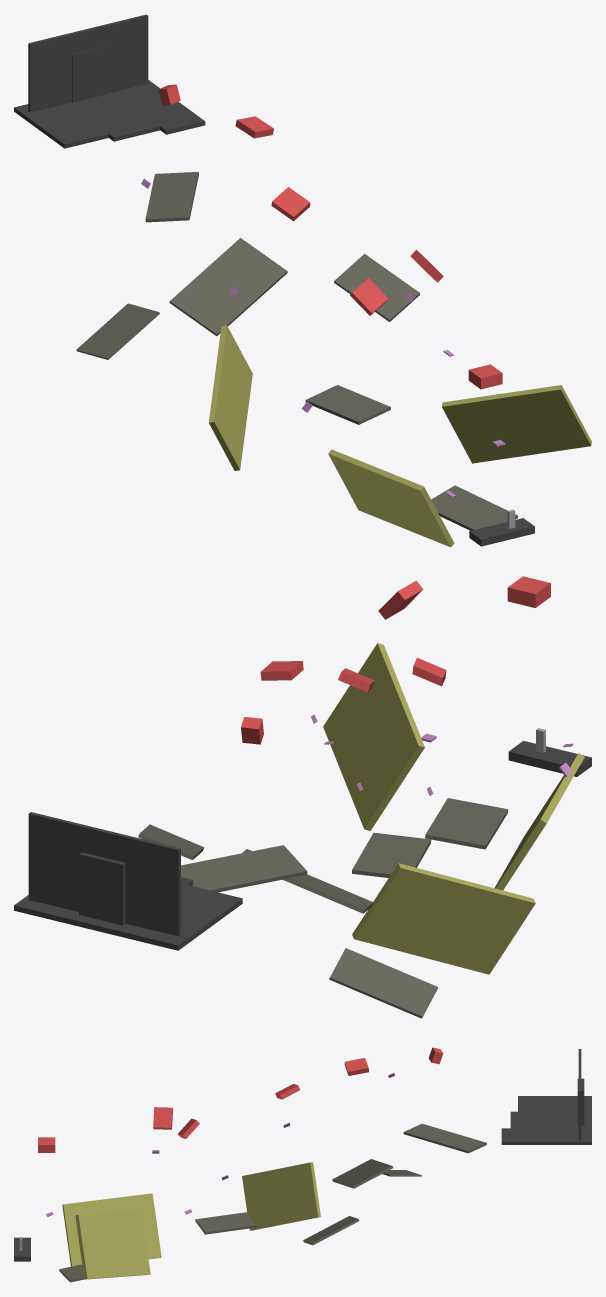
File: testScene.fbx
3 views of the same model, one above another, from view 1: azimuth 30°, elevation 25°; view 2: azimuth 150°, elevation 25°; view 3: azimuth 270°, elevation 25° (orthographic). The views are drawn at different scales.
Parts seen in each view (by area): view 1: pCube24, pCube28, pCube27, pCube34, pCube23, pCube47, pCube36, pCube46, pCube33, pCube42, pCube35, pCube29 (+3 smaller); view 2: pCube47, pCube28, pCube24, pCube27, pCube46, pCube33, pCube29, pCube42, pCube35, pCube23, pCube2, pCube34 (+6 smaller); view 3: pCube24, pCube47, pCube27, pCube23, pCube46, pCube35, pCube34, pCube36, pCube25, pCube2, pCube28, pCube44 (+1 smaller).
Boxes of the visible parts, x1,y1,x2,y2 form: pCube24: (442, 385, 591, 463); pCube28: (28, 14, 148, 112); pCube27: (14, 80, 205, 148); pCube34: (169, 238, 287, 336); pCube23: (328, 449, 454, 547); pCube47: (208, 325, 252, 470); pCube36: (334, 253, 419, 321); pCube46: (145, 172, 198, 222); pCube33: (76, 303, 159, 359); pCube42: (431, 485, 517, 530); pCube35: (305, 385, 390, 424); pCube29: (72, 46, 106, 102); pCube47: (352, 863, 535, 974); pCube28: (28, 812, 180, 936); pCube24: (323, 643, 424, 830); pCube27: (14, 877, 242, 950); pCube46: (181, 845, 307, 892); pCube33: (329, 948, 438, 1018); pCube29: (79, 852, 125, 925); pCube42: (425, 798, 508, 849); pCube35: (352, 832, 431, 877); pCube23: (495, 753, 584, 890); pCube2: (508, 741, 591, 776); pCube34: (242, 849, 373, 913); pCube24: (75, 1210, 150, 1279); pCube47: (242, 1162, 320, 1230); pCube27: (501, 1096, 591, 1144); pCube23: (62, 1193, 161, 1266); pCube46: (403, 1123, 486, 1153); pCube35: (195, 1212, 256, 1234); pCube34: (332, 1159, 393, 1188); pCube36: (303, 1216, 359, 1245); pCube25: (153, 1107, 172, 1129); pCube2: (14, 1237, 30, 1261); pCube28: (578, 1049, 581, 1140); pCube44: (344, 1058, 368, 1075).
Size of the model in its own units: 31.13 by 28.65 by 71.96.
